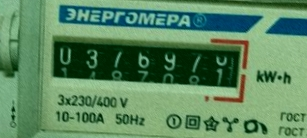0: (56, 43, 71, 65)
1: (212, 66, 224, 86)
3: (84, 48, 98, 69)
6: (135, 45, 151, 69)
7: (109, 45, 125, 70), (187, 50, 202, 74)
9: (161, 48, 175, 71)
screen: (41, 22, 252, 105)
